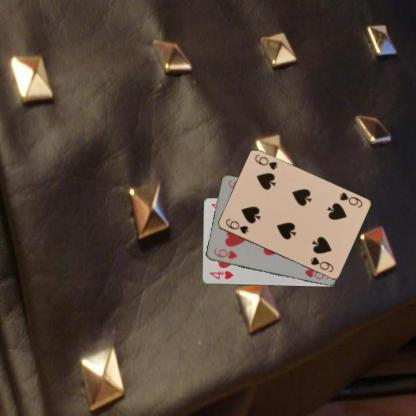4h: (207, 269, 234, 280)
6h: (211, 245, 238, 260)
6s: (222, 216, 250, 235), (336, 190, 364, 209)
